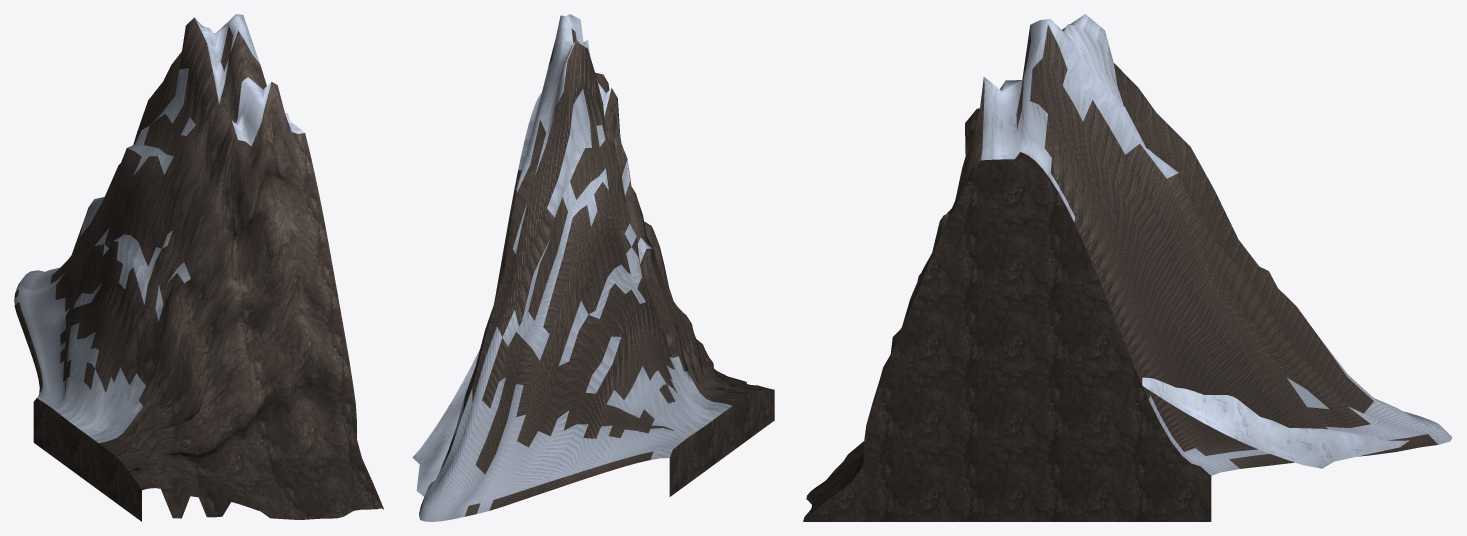
File: seacliff_endcap_left_h8_b_v5_winter.glb
The picture shows the model from 3 angles, left to right: view 1: azimuth 30°, elevation 25°; view 2: azimuth 150°, elevation 25°; view 3: azimuth 270°, elevation 25°; orthographic projection. The views are drawn at different scales.
Visible parts, largest first — view 1: seacliff_endcap_left_h8_b; view 2: seacliff_endcap_left_h8_b; view 3: seacliff_endcap_left_h8_b.
Part boxes in pixels (left/top/right/bottom): seacliff_endcap_left_h8_b: left=14, top=14, right=383, bottom=521; seacliff_endcap_left_h8_b: left=412, top=14, right=774, bottom=521; seacliff_endcap_left_h8_b: left=803, top=14, right=1452, bottom=521.
Size of the model in its own units: 6 by 12.59 by 15.37.
2 materials, 2 textured.
